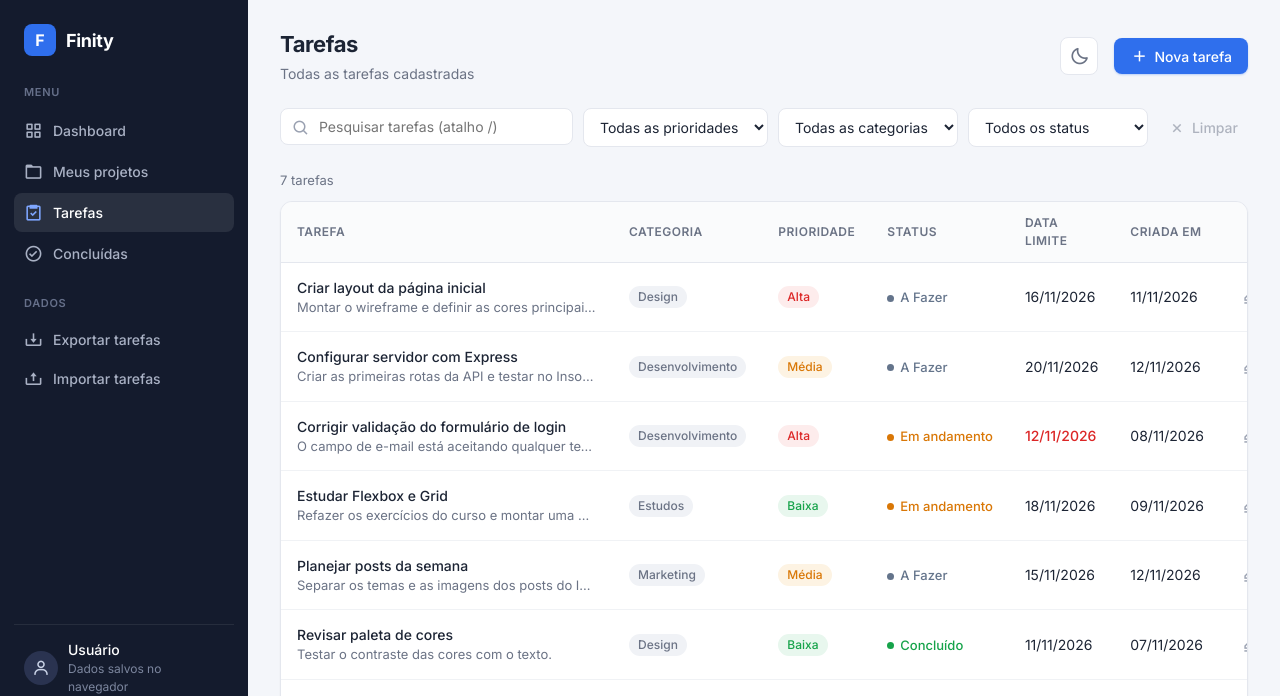
App › o filtro Atrasadas mostra só as que passaram da data e não foram concluídas
Expected: the text "7 tarefas" is shown, [280,172,334,188]
Select "Atrasadas" in the dropdown named "Filtrar por status": (1058, 128) [968,108,1148,147]
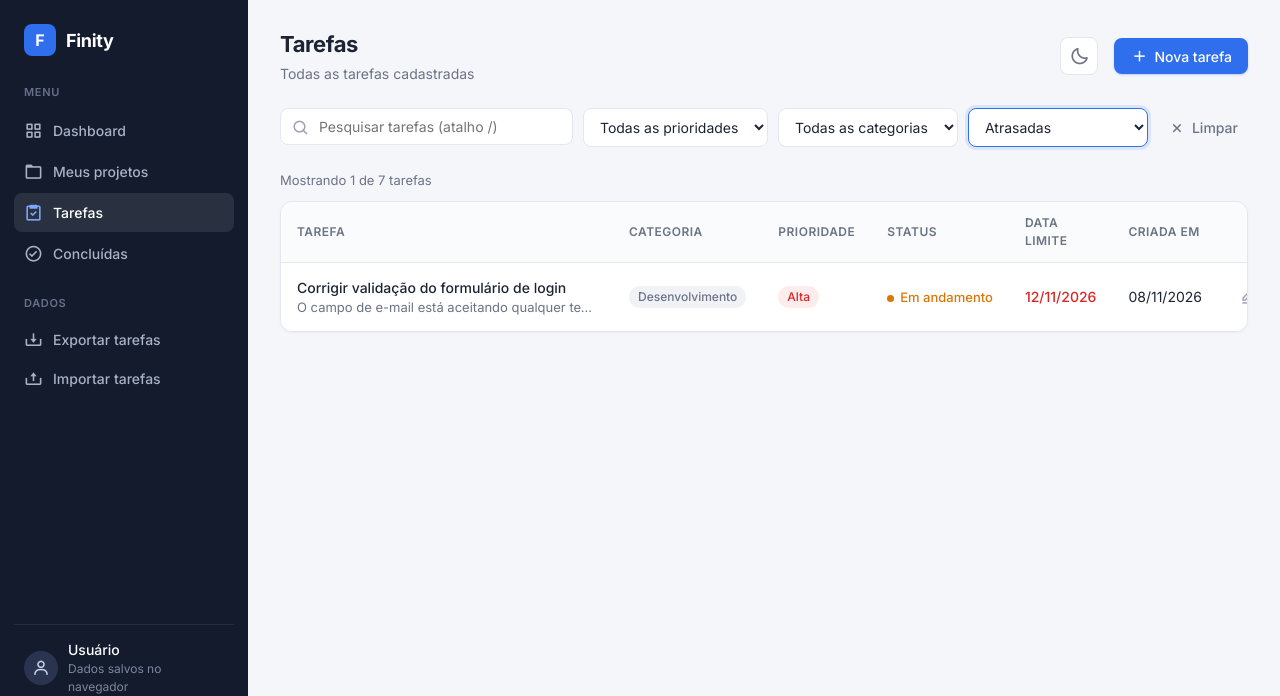
Expected: the text "Corrigir validação do formulário de login" is shown, [297,276,597,298]
Expected: the text "Mostrando 1 de 7 tarefas" is shown, [280,172,432,188]
Expected: the text "Revisar paleta de cores" is gone
